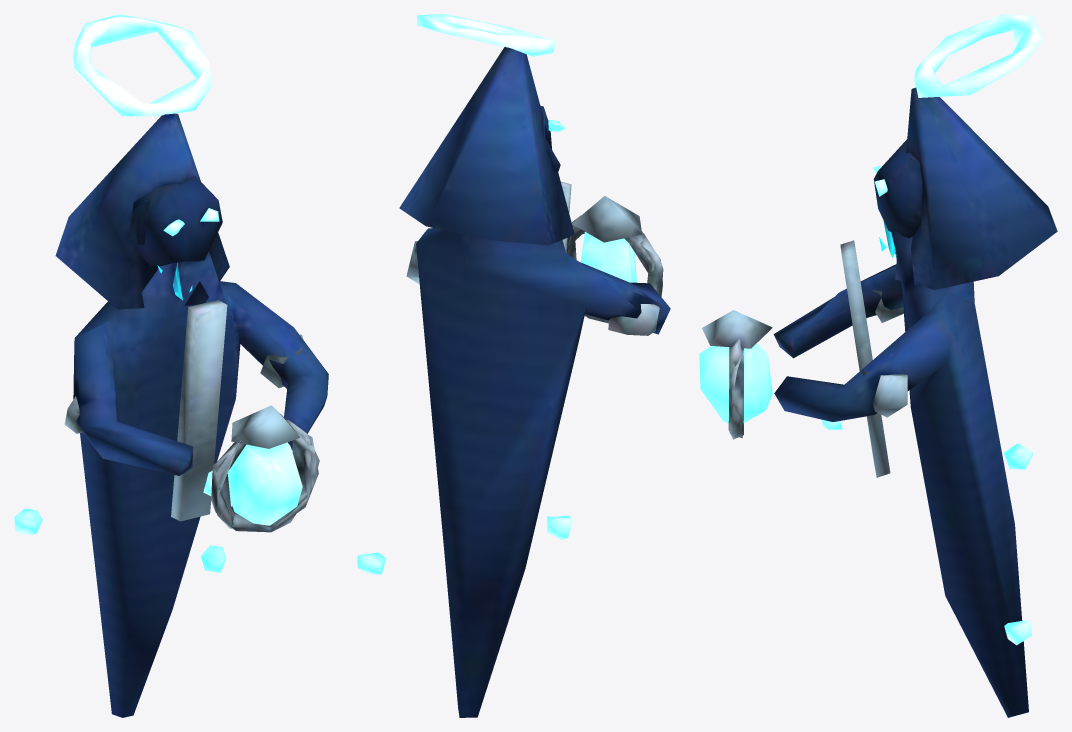
File: u_mender_f_g.glb
The picture shows the model from 3 angles, left to right: view 1: azimuth 30°, elevation 25°; view 2: azimuth 150°, elevation 25°; view 3: azimuth 270°, elevation 25°; orthographic projection.
Parts seen in each view (by area): view 1: u_mender_f; view 2: u_mender_f; view 3: u_mender_f.
Boxes of the visible parts, x1=… form: u_mender_f: x1=14, y1=14, x2=328, y2=717; u_mender_f: x1=357, y1=14, x2=670, y2=717; u_mender_f: x1=699, y1=14, x2=1057, y2=717.
Bounding box in the file's own units: 0.6775 × 1.82 × 0.8634.
2 materials, 2 textured.
